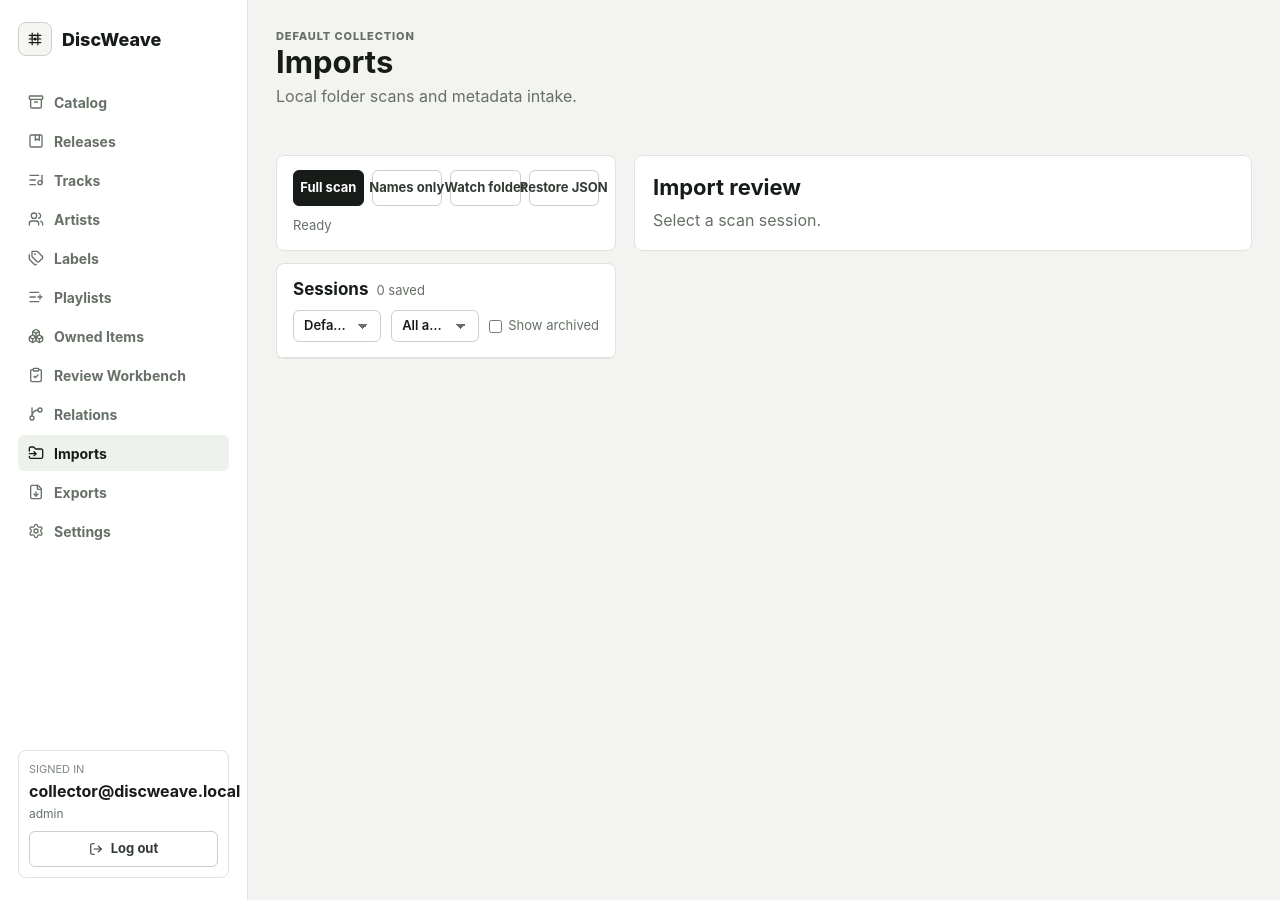
Scenario: App imports and exports › resets local import scan status after a server failure
Click the button "Full scan" at {"x": 328, "y": 188}, box x1=293 y1=170 x2=364 y2=206
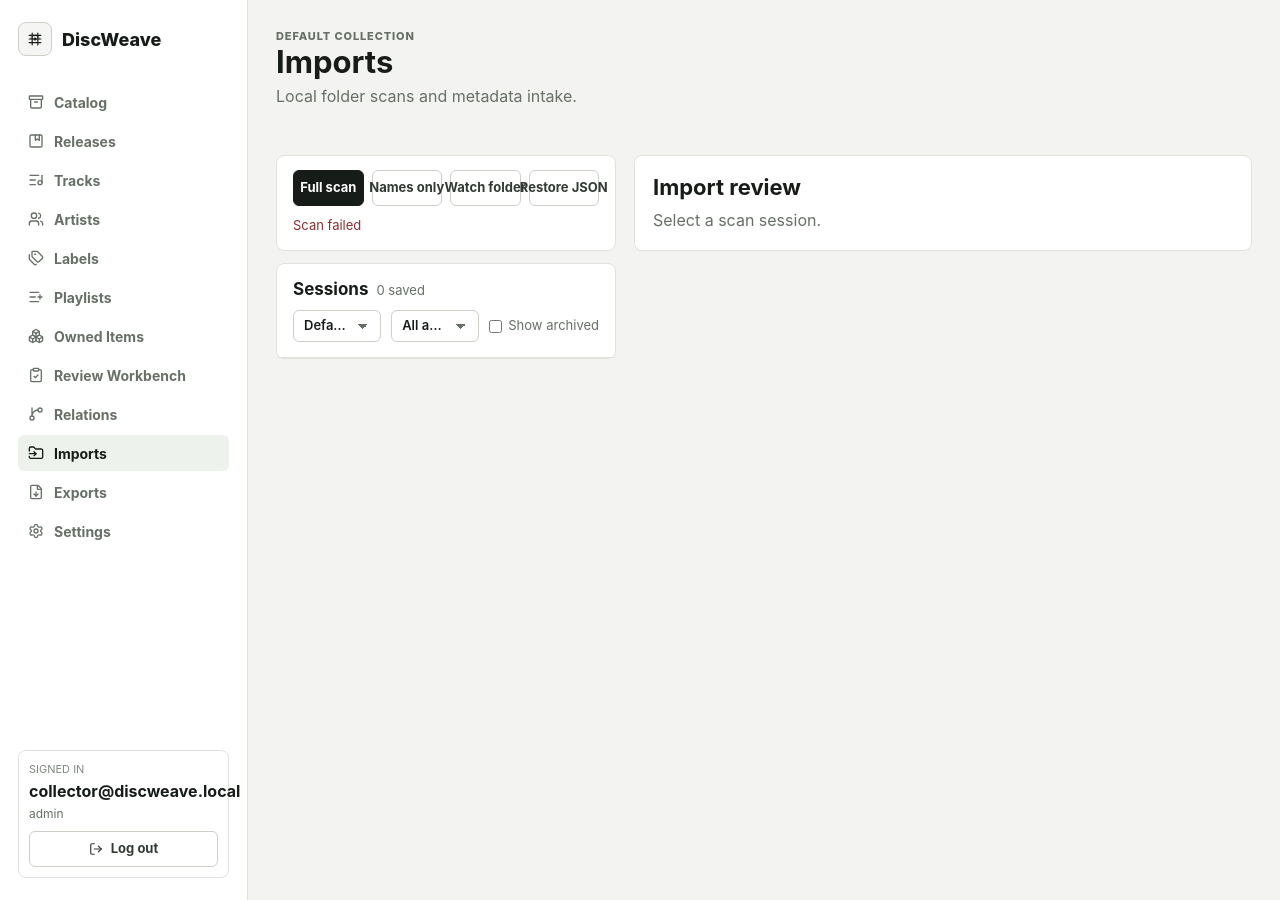
Expected: the message reads "Scan failed", x1=293 y1=217 x2=361 y2=233
